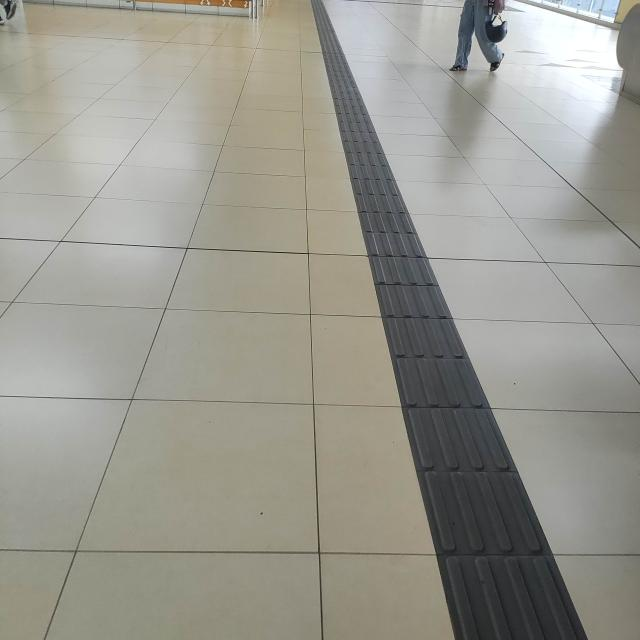lurus: (357, 107, 532, 640)
